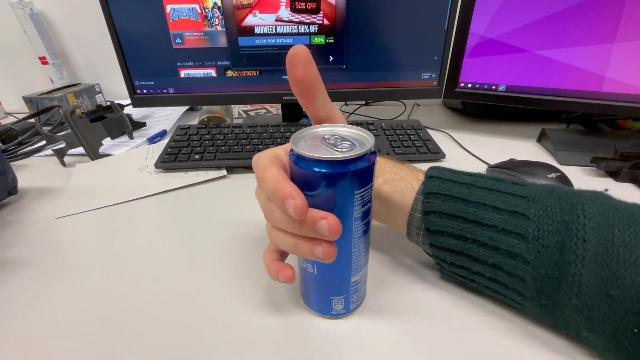Pepsi: (286, 122, 376, 326)
